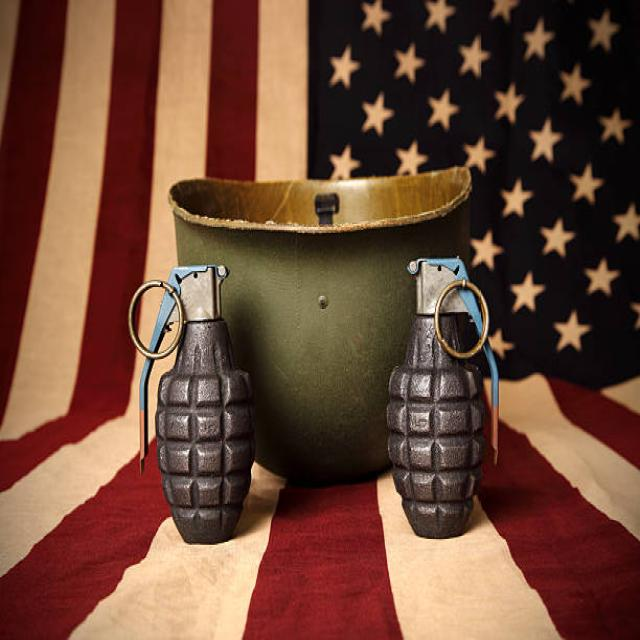grenade: (131, 260, 261, 555), (386, 254, 504, 546)
